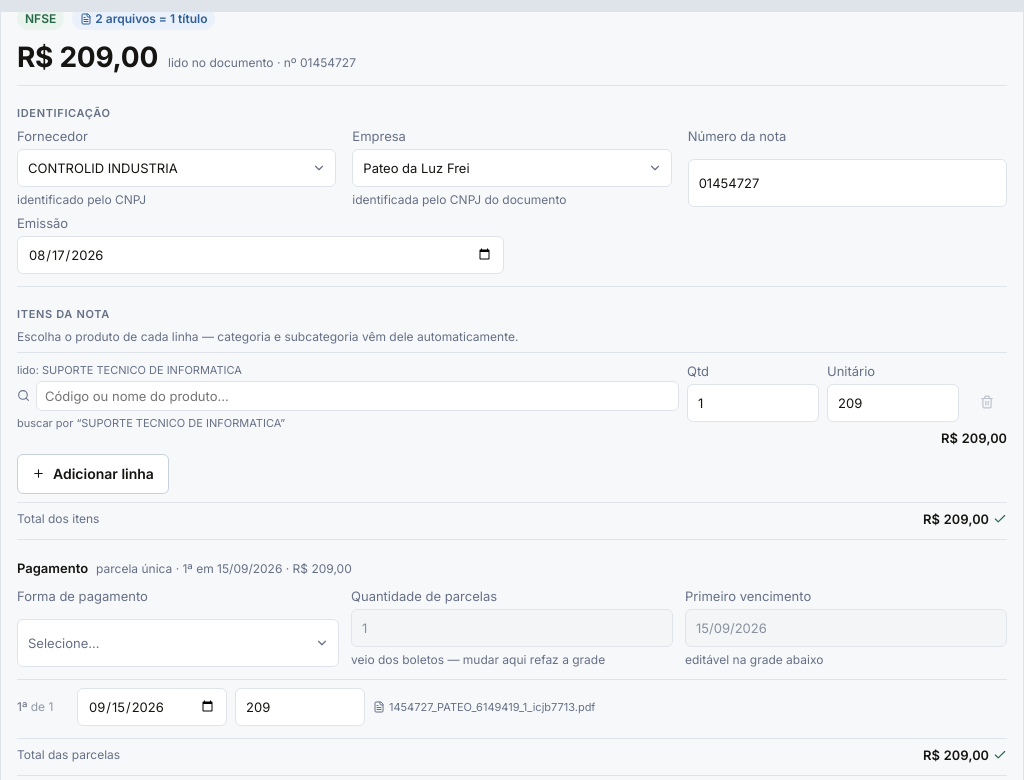
Test: Conferência — a categoria vem do produto, nunca é digitada › ao escolher o produto, a categoria dele aparece sozinha
(page scrolled)
Type "suporte" into the field named "Buscar produto".
click(358, 396); type("suporte")  # box left=36, top=381, right=679, bottom=411
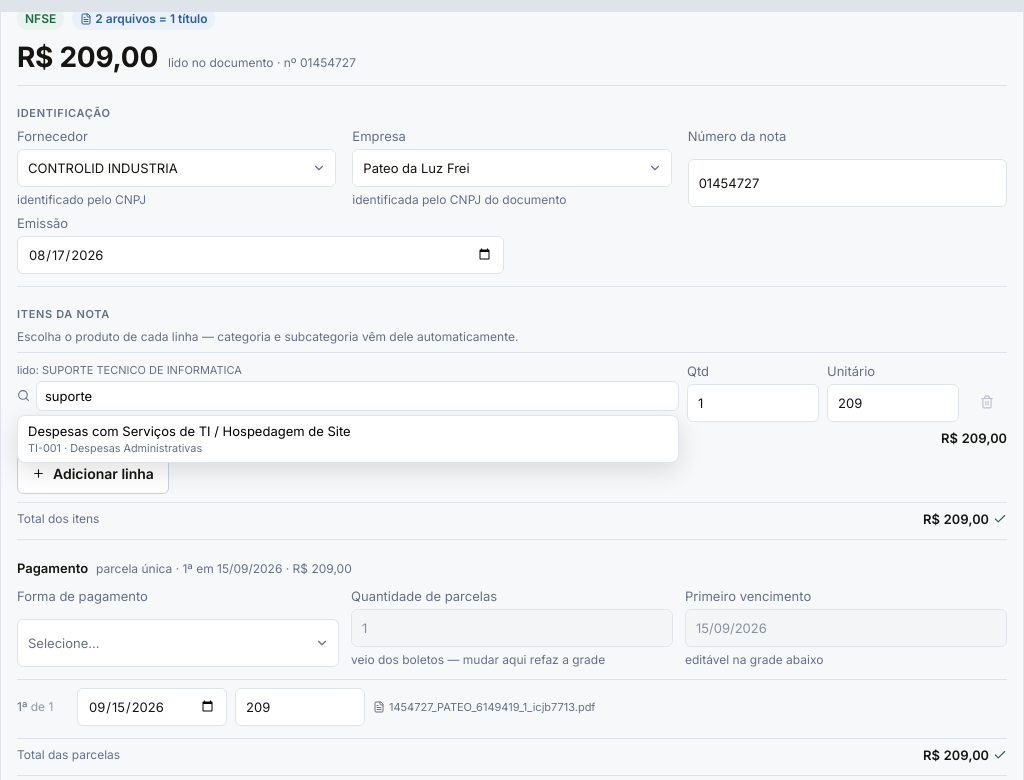
Click the button "Despesas com Serviço".
click(348, 439)  # box left=18, top=416, right=678, bottom=462
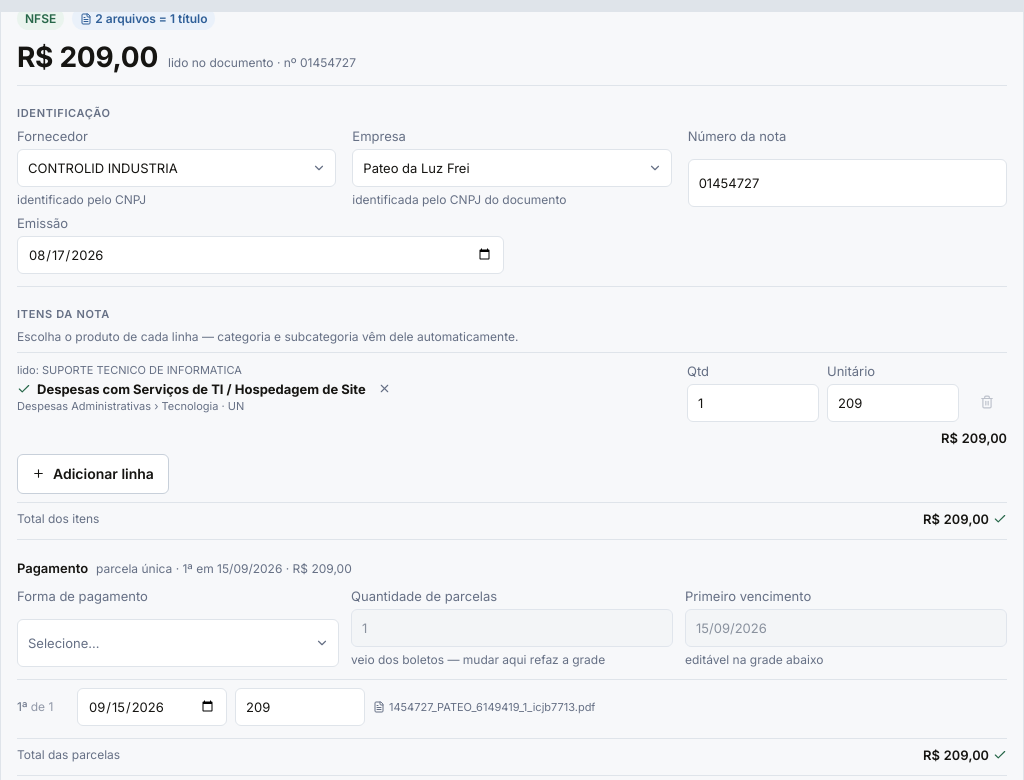
Now the text "Despesas Administrativas › Tecnologia · UN" is shown, box left=17, top=399, right=244, bottom=413
